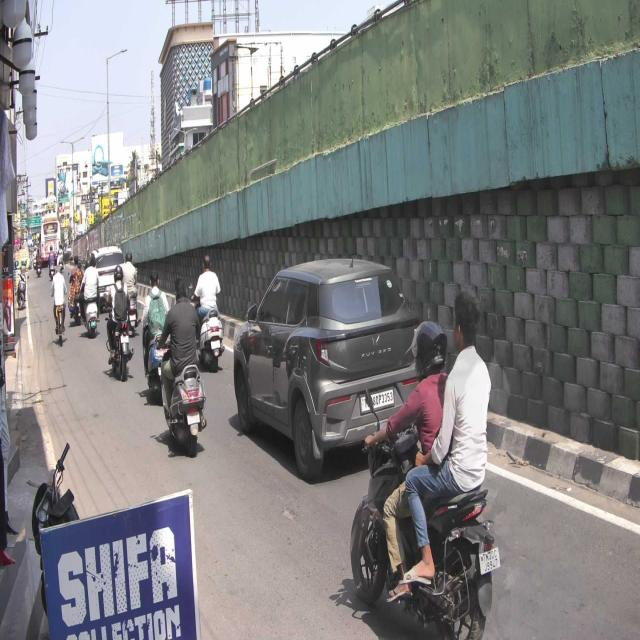double_rider: (349, 285, 501, 640)
single_rider: (157, 275, 209, 458)
